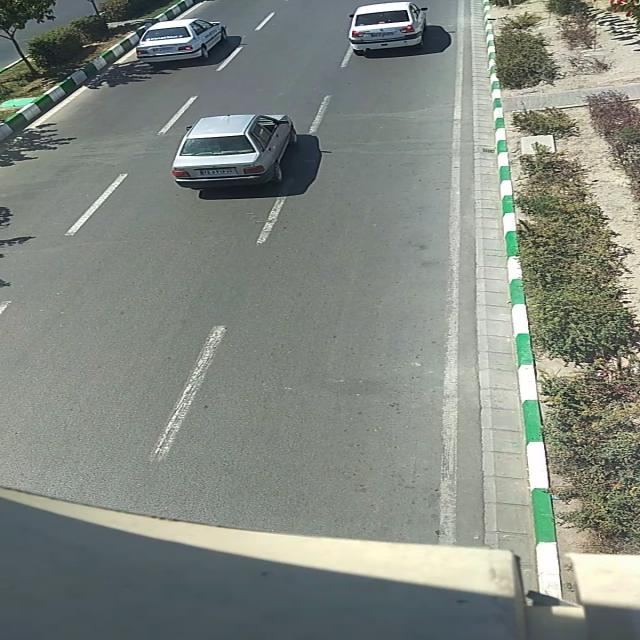car: (171, 112, 295, 191), (135, 18, 227, 68), (347, 2, 431, 56)
